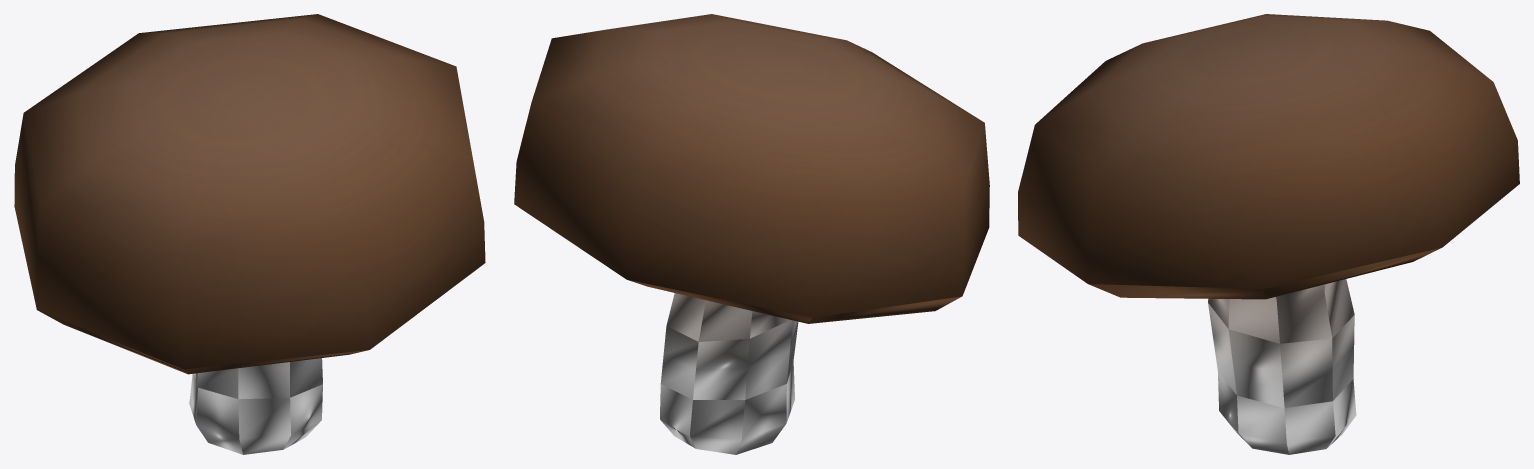
The model's file is mushroom03.fbx.
3 renders of one model, left to right at view 1: azimuth 30°, elevation 25°; view 2: azimuth 150°, elevation 25°; view 3: azimuth 270°, elevation 25°, orthographic. The views are drawn at different scales.
Visible parts, largest first — view 1: mushroom; view 2: mushroom; view 3: mushroom.
Part boxes in pixels (left/top/right/bottom): mushroom: left=14, top=14, right=485, bottom=454; mushroom: left=514, top=14, right=989, bottom=454; mushroom: left=1018, top=14, right=1519, bottom=454.
Size of the model in its own units: 98.87 by 82.36 by 98.89.
